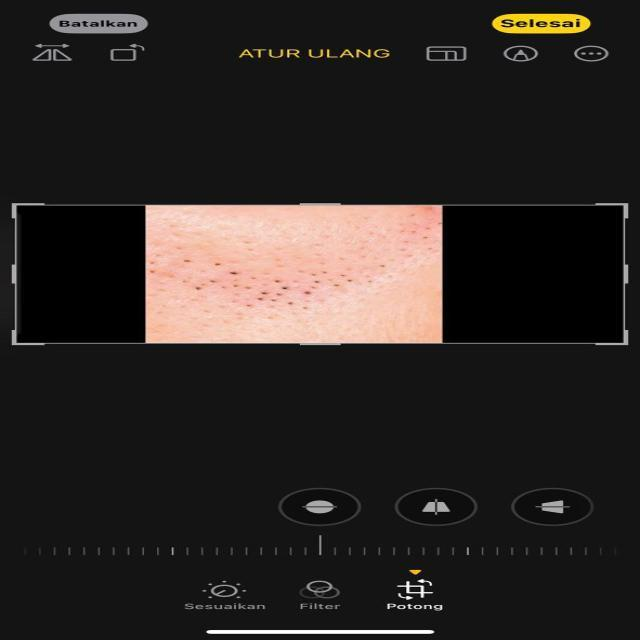blackhead: (153, 254, 399, 325)
